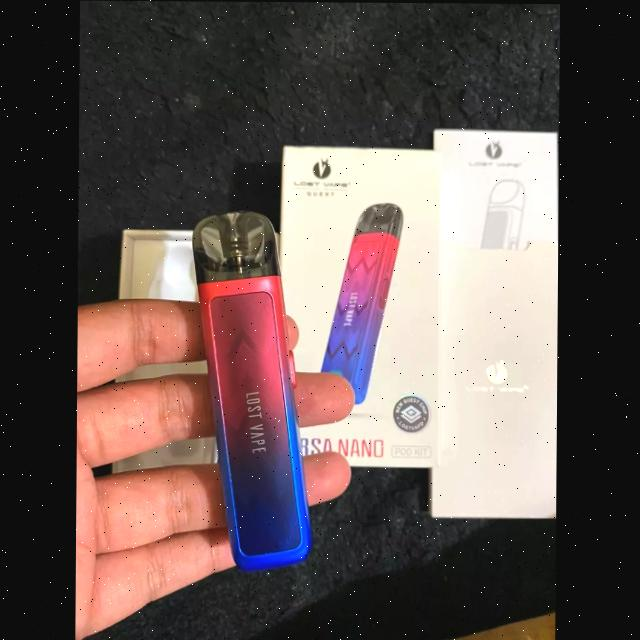vape: (190, 209, 317, 568), (325, 200, 406, 402)
